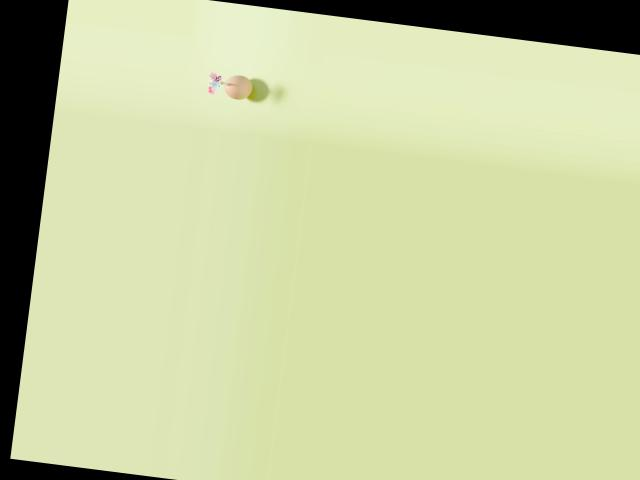egg: (223, 73, 253, 100)
